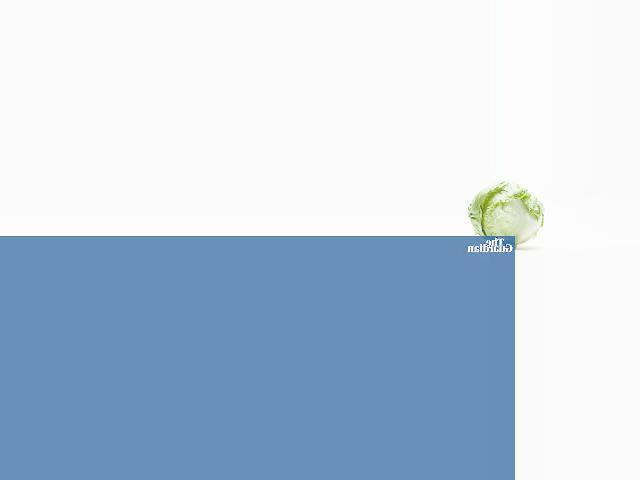lettuce: (469, 177, 543, 244)
